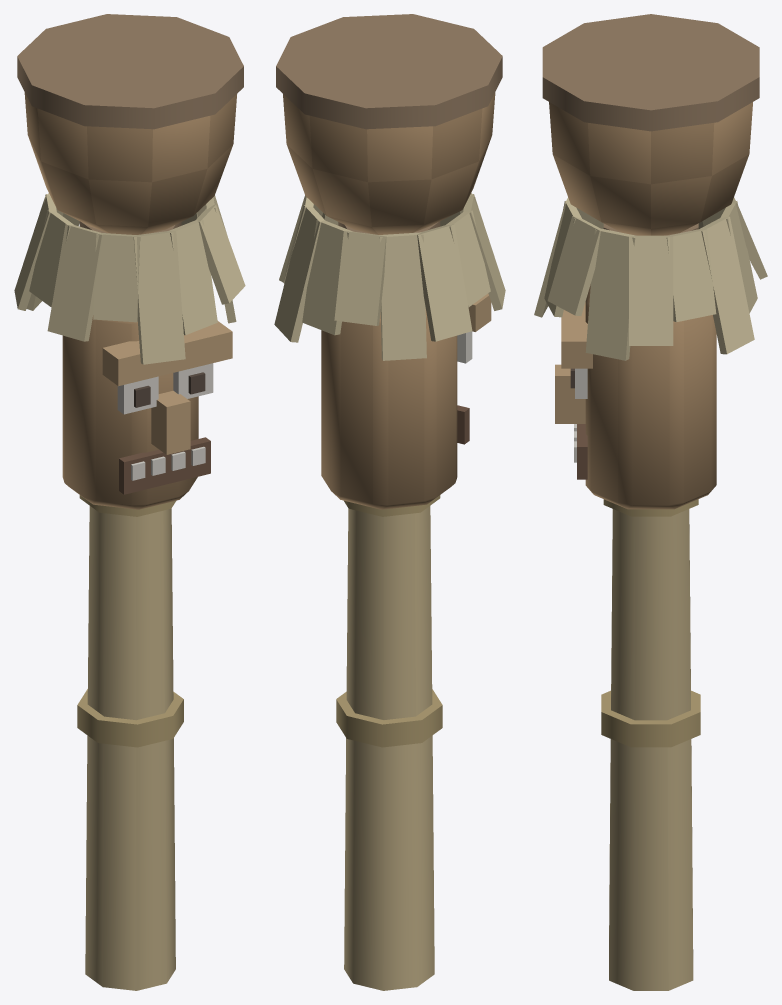
File: tiki_torch.glb
3 renders of one model, left to right at view 1: azimuth 30°, elevation 25°; view 2: azimuth 150°, elevation 25°; view 3: azimuth 270°, elevation 25°, orthographic.
Parts seen in each view (by area): view 1: tiki_torch; view 2: tiki_torch; view 3: tiki_torch.
Boxes of the visible parts, <box> form: tiki_torch: <box>14,14,245,990</box>; tiki_torch: <box>274,14,505,990</box>; tiki_torch: <box>534,14,767,990</box>.
Size of the model in its own units: 2.17 by 9.52 by 2.22.
